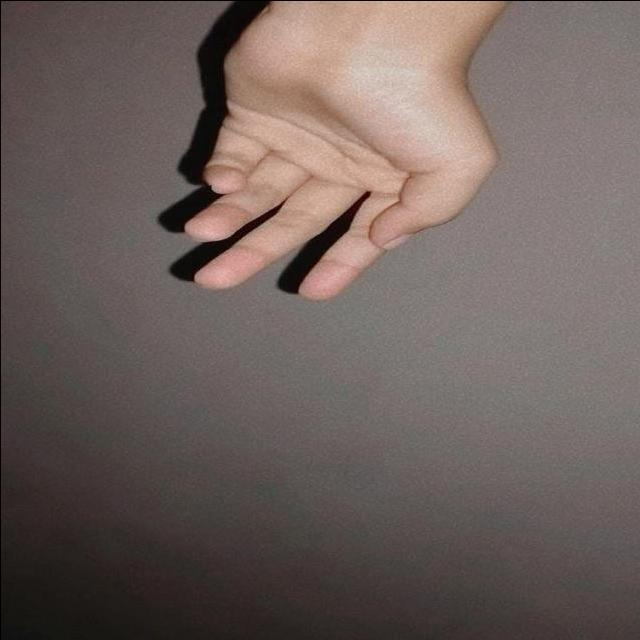Nail: (382, 232, 415, 250)
